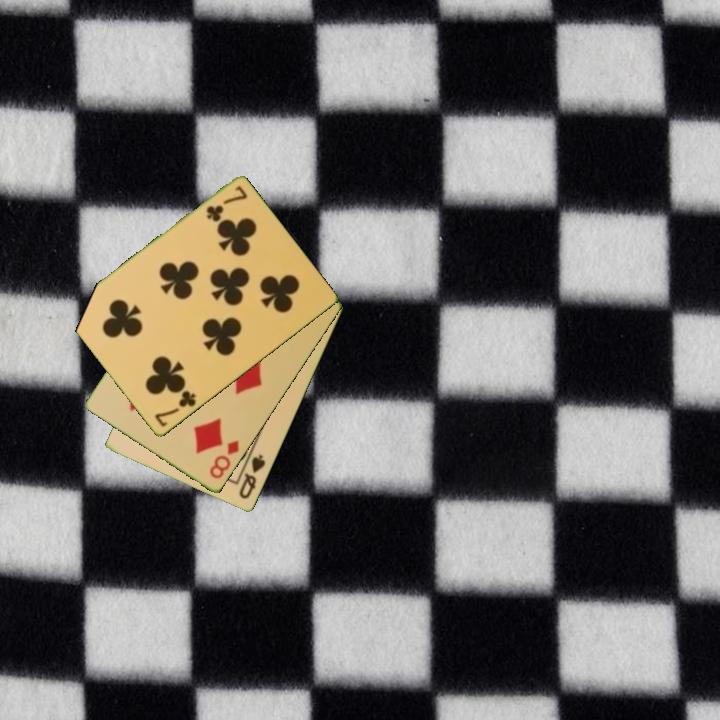7c: (151, 387, 199, 430), (203, 183, 250, 225)
8d: (206, 437, 242, 482)
Qs: (236, 451, 269, 502)
